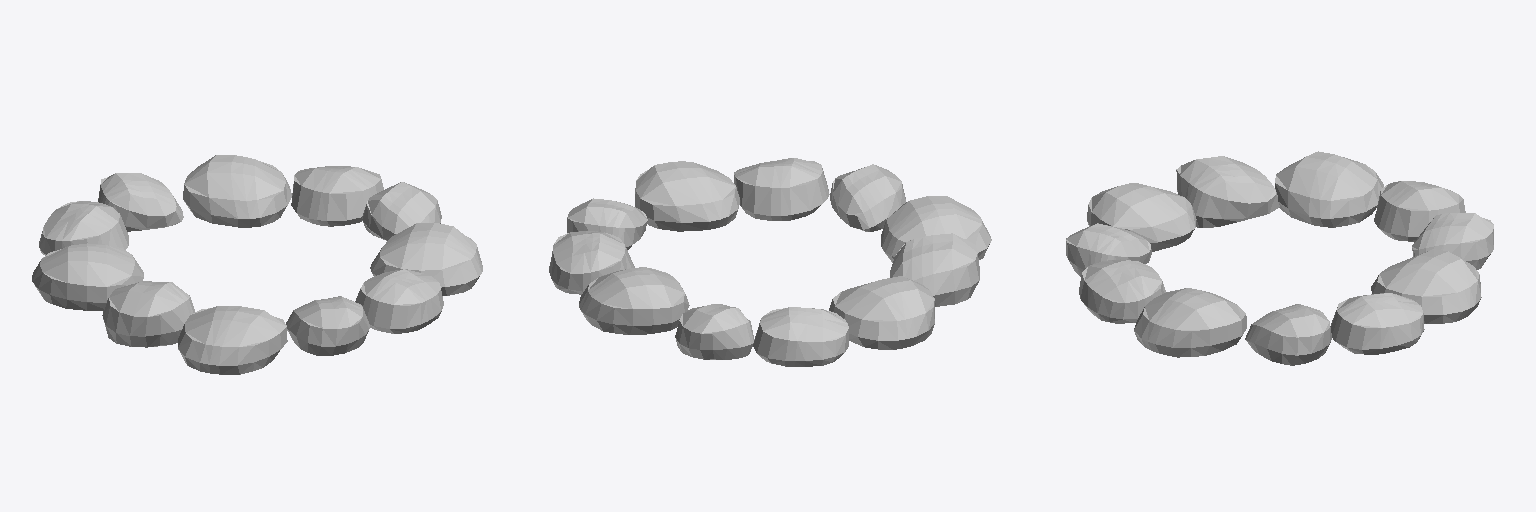
Rendered from rocks.obj.
3 views of the same model, side by side, from view 1: azimuth 30°, elevation 25°; view 2: azimuth 150°, elevation 25°; view 3: azimuth 270°, elevation 25° (orthographic).
Bounding box in the file's own units: 20.24 × 2.74 × 19.89.